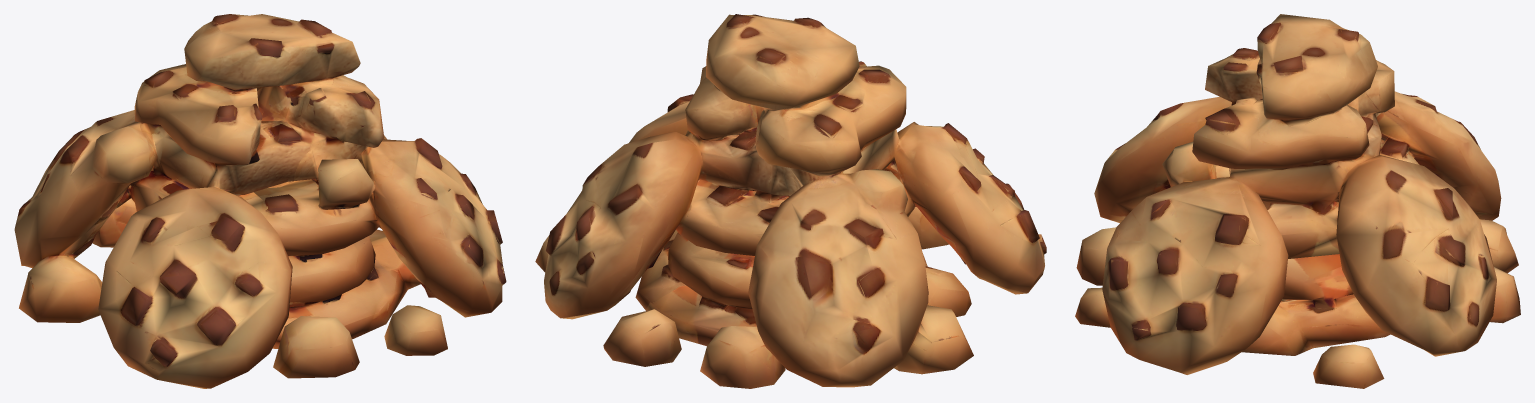
File: snacks.glb
3 views of the same model, side by side, from view 1: azimuth 30°, elevation 25°; view 2: azimuth 150°, elevation 25°; view 3: azimuth 270°, elevation 25° (orthographic). The views are drawn at different scales.
Parts seen in each view (by area): view 1: Mesh_0; view 2: Mesh_0; view 3: Mesh_0.
Part boxes in pixels (box(x1,y1,x2,y2)): Mesh_0: box(14, 14, 506, 388); Mesh_0: box(535, 14, 1046, 388); Mesh_0: box(1075, 14, 1520, 388).
Bounding box in the file's own units: 1.87 × 1.15 × 1.76.
1 material, 1 textured.
